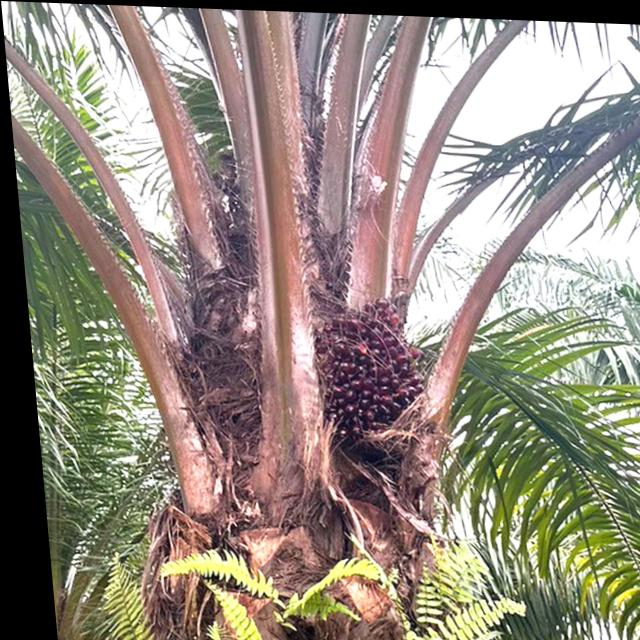ripe: (296, 272, 438, 441)
